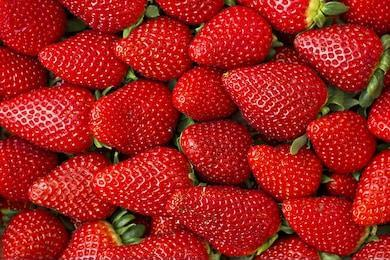Fresa: (219, 55, 331, 145), (91, 139, 202, 224), (163, 180, 280, 260), (1, 80, 103, 158), (83, 75, 178, 158), (293, 20, 389, 98), (36, 22, 131, 95), (27, 151, 122, 223), (278, 188, 372, 259), (187, 4, 277, 75), (112, 11, 197, 84), (178, 115, 260, 187), (305, 106, 378, 178), (245, 136, 325, 201)
